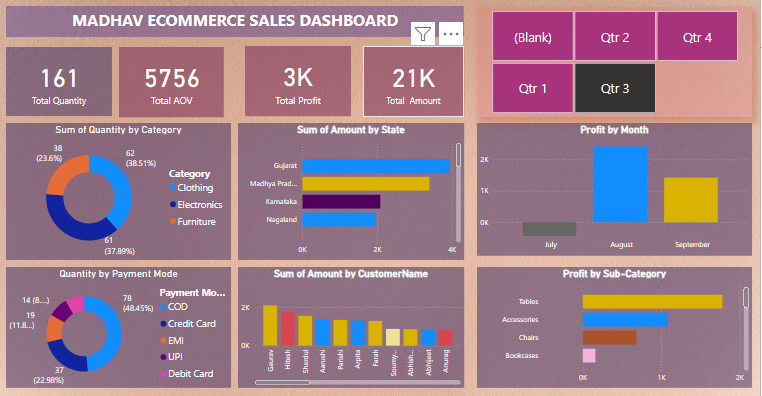

What the dashboard file says about the page in this screenshot:
{"tool":"powerbi","page":{"name":"Page 1","canvas":[1280,720],"ordinal":0},"visuals":[{"type":"textbox","box":[13.4,65.5,769.3,52.1],"z":0},{"type":"columnChart","fields":{"Category":["Orders.Order Date.Variation.Date Hierarchy.Month"],"Y":["Sum(Details.Profit)"]},"box":[804.6,262,461.9,223.4],"z":1000},{"type":"barChart","fields":{"Category":["Details.Sub-Category"],"Y":["Sum(Details.Profit)"]},"box":[804.6,503.9,461.9,203.3],"z":2000},{"type":"donutChart","fields":{"Category":["Details.Category"],"Y":["Sum(Details.Quantity)"]},"box":[13.4,262,378,230.1],"z":3000},{"type":"donutChart","fields":{"Y":["Sum(Details.Quantity)"],"Category":["Details.PaymentMode"]},"box":[13.4,503.9,378,203.3],"z":4000},{"type":"card","fields":{"Values":["Sum(Details.Amount)"]},"box":[613.1,132.7,169.7,119.3],"z":5000},{"type":"card","fields":{"Values":["Sum(Details.Profit)"]},"box":[414.9,132.7,178.1,117.6],"z":6000},{"type":"card","fields":{"Values":["Sum(Details.Quantity)"]},"box":[13.4,134.4,178.1,115.9],"z":7000},{"type":"card","fields":{"Values":["Sum(Details.AOV)"]},"box":[203.3,134.4,176.4,117.6],"z":8000},{"type":"barChart","fields":{"Category":["Orders.State"],"Y":["Sum(Details.Amount)"]},"box":[403.1,262,379.6,230.1],"z":9000},{"type":"columnChart","fields":{"Category":["Orders.CustomerName"],"Y":["Sum(Details.Amount)"]},"box":[403.1,503.9,379.6,203.3],"z":10000},{"type":"slicer","fields":{"Values":["Orders.Order Date.Variation.Date Hierarchy.Quarter"]},"box":[804.6,67.2,461.9,184.8],"z":11000}]}

Visuals, with their boxes on the page's 1280x720 design canvas (x1, y1, x2, y2). These are canvas units, not pixel positions in the 762x396 screenshot, which may show the page scaled, cropped or inside an application window:
textbox: bbox(13, 66, 783, 118)
columnChart - Orders.Order Date.Variation.Date Hierarchy.Month x Sum(Details.Profit): bbox(805, 262, 1266, 485)
barChart - Details.Sub-Category x Sum(Details.Profit): bbox(805, 504, 1266, 707)
donutChart - Details.Category x Sum(Details.Quantity): bbox(13, 262, 391, 492)
donutChart - Sum(Details.Quantity) x Details.PaymentMode: bbox(13, 504, 391, 707)
card - Sum(Details.Amount): bbox(613, 133, 783, 252)
card - Sum(Details.Profit): bbox(415, 133, 593, 250)
card - Sum(Details.Quantity): bbox(13, 134, 192, 250)
card - Sum(Details.AOV): bbox(203, 134, 380, 252)
barChart - Orders.State x Sum(Details.Amount): bbox(403, 262, 783, 492)
columnChart - Orders.CustomerName x Sum(Details.Amount): bbox(403, 504, 783, 707)
slicer - Orders.Order Date.Variation.Date Hierarchy.Quarter: bbox(805, 67, 1266, 252)
